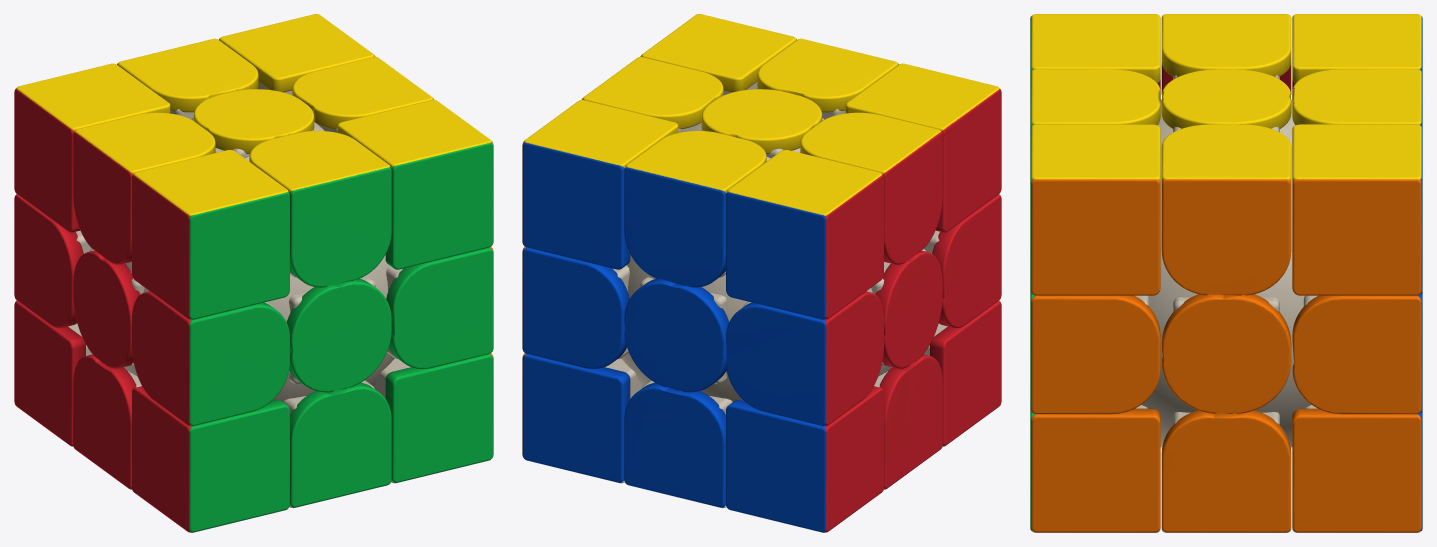
3 views of the same model, side by side, from view 1: azimuth 30°, elevation 25°; view 2: azimuth 150°, elevation 25°; view 3: azimuth 270°, elevation 25° (orthographic). The views are drawn at different scales.
Parts seen in each view (by area): view 1: piece_-1,1,1, piece_-1,-1,1, piece_1,1,1, piece_-1,0,1, piece_0,1,1, piece_-1,1,-1, piece_1,-1,1, piece_-1,1,0, piece_1,0,1, piece_0,-1,1, piece_0,0,1, piece_-1,-1,-1 (+8 smaller); view 2: piece_-1,1,-1, piece_-1,-1,-1, piece_1,1,-1, piece_-1,0,-1, piece_0,1,-1, piece_-1,1,1, piece_1,-1,-1, piece_-1,1,0, piece_1,0,-1, piece_0,-1,-1, piece_0,0,-1, piece_-1,-1,1 (+8 smaller); view 3: piece_1,1,-1, piece_1,1,1, piece_1,1,0, piece_1,-1,1, piece_1,-1,-1, piece_1,-1,0, piece_1,0,1, piece_1,0,-1, piece_1,0,0, piece_-1,1,0, piece_-1,1,-1, piece_-1,1,1 (+4 smaller).
Part boxes in pixels (<box>): piece_-1,1,1: <box>132,150,289,319</box>; piece_-1,-1,1: <box>132,386,289,532</box>; piece_1,1,1: <box>337,100,493,269</box>; piece_-1,0,1: <box>132,291,289,426</box>; piece_0,1,1: <box>249,131,391,287</box>; piece_-1,1,-1: <box>14,63,170,232</box>; piece_1,-1,1: <box>374,353,493,483</box>; piece_-1,1,0: <box>73,112,215,264</box>; piece_1,0,1: <box>386,247,493,369</box>; piece_0,-1,1: <box>283,380,391,508</box>; piece_0,0,1: <box>286,277,391,392</box>; piece_-1,-1,-1: <box>14,300,92,446</box>; piece_-1,1,-1: <box>726,150,883,319</box>; piece_-1,-1,-1: <box>726,386,883,532</box>; piece_1,1,-1: <box>522,100,678,269</box>; piece_-1,0,-1: <box>726,291,883,426</box>; piece_0,1,-1: <box>624,131,766,287</box>; piece_-1,1,1: <box>845,63,1001,232</box>; piece_1,-1,-1: <box>522,353,641,483</box>; piece_-1,1,0: <box>800,112,942,264</box>; piece_1,0,-1: <box>522,247,629,369</box>; piece_0,-1,-1: <box>624,380,732,508</box>; piece_0,0,-1: <box>624,277,729,392</box>; piece_-1,-1,1: <box>923,300,1001,446</box>; piece_1,1,-1: <box>1292,124,1422,295</box>; piece_1,1,1: <box>1030,124,1160,295</box>; piece_1,1,0: <box>1161,124,1291,295</box>; piece_1,-1,1: <box>1030,405,1160,532</box>; piece_1,-1,-1: <box>1292,405,1422,532</box>; piece_1,-1,0: <box>1161,410,1291,532</box>; piece_1,0,1: <box>1030,292,1160,414</box>; piece_1,0,-1: <box>1292,292,1422,414</box>; piece_1,0,0: <box>1161,294,1291,414</box>; piece_-1,1,0: <box>1161,14,1291,94</box>; piece_-1,1,-1: <box>1292,14,1422,99</box>; piece_-1,1,1: <box>1030,14,1160,99</box>.
Bounding box in the file's own units: 2 × 2 × 2.
